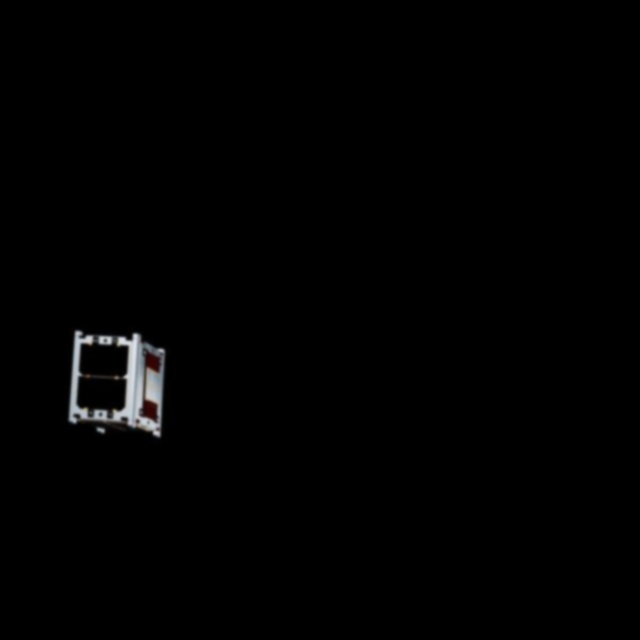satellite: (47, 315, 190, 466)
